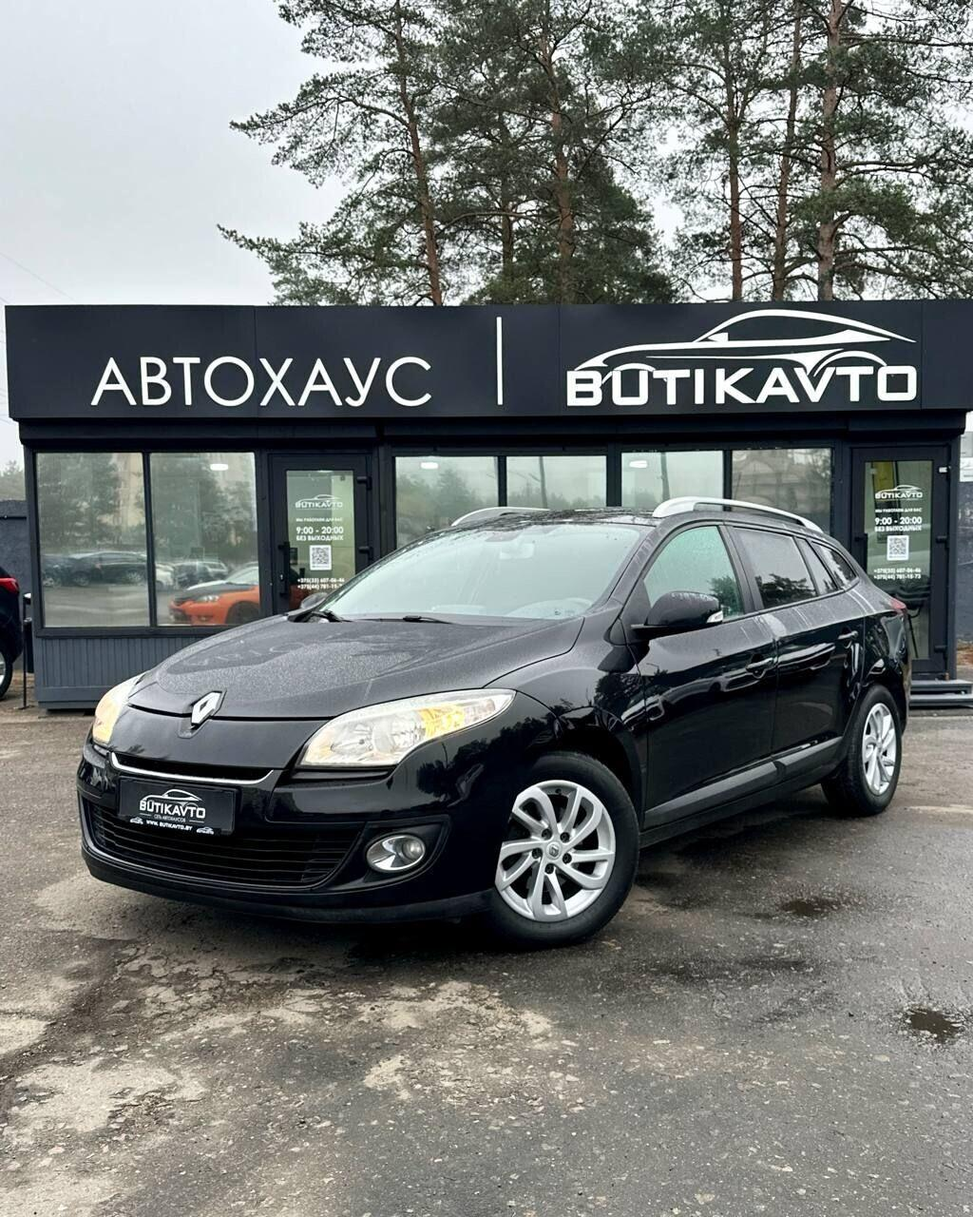Megane_2012-2014: (71, 501, 933, 968)
